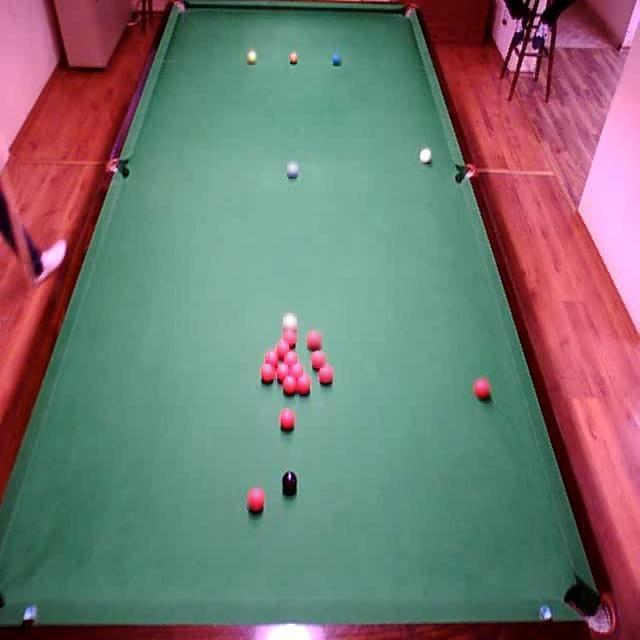Ball: (279, 473, 299, 496), (247, 488, 263, 510), (474, 378, 489, 401), (281, 408, 295, 430), (283, 376, 298, 396), (307, 332, 322, 350), (283, 313, 297, 330), (297, 376, 310, 394), (276, 363, 289, 380), (313, 352, 326, 368), (320, 367, 333, 382), (247, 48, 258, 65), (287, 161, 298, 177), (284, 330, 297, 343), (289, 364, 302, 377), (277, 341, 289, 355), (264, 364, 275, 379), (270, 352, 282, 365), (284, 352, 296, 365), (421, 147, 431, 162), (289, 52, 299, 66), (333, 53, 342, 66)
